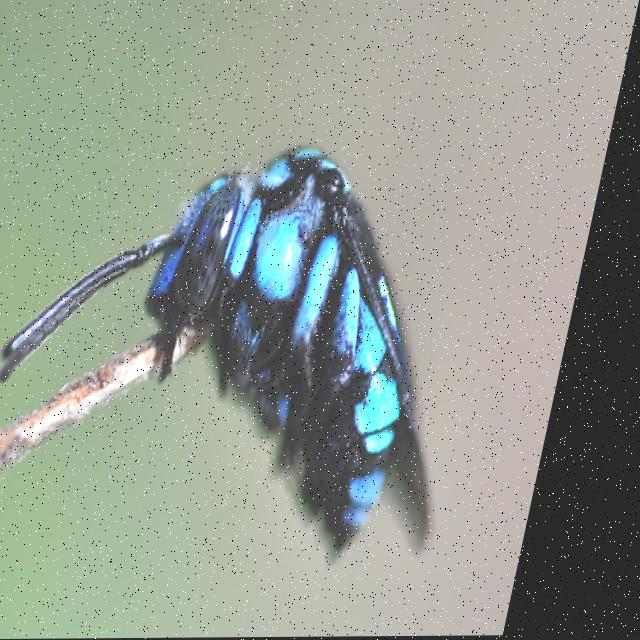Thyreus: (0, 125, 528, 588)
